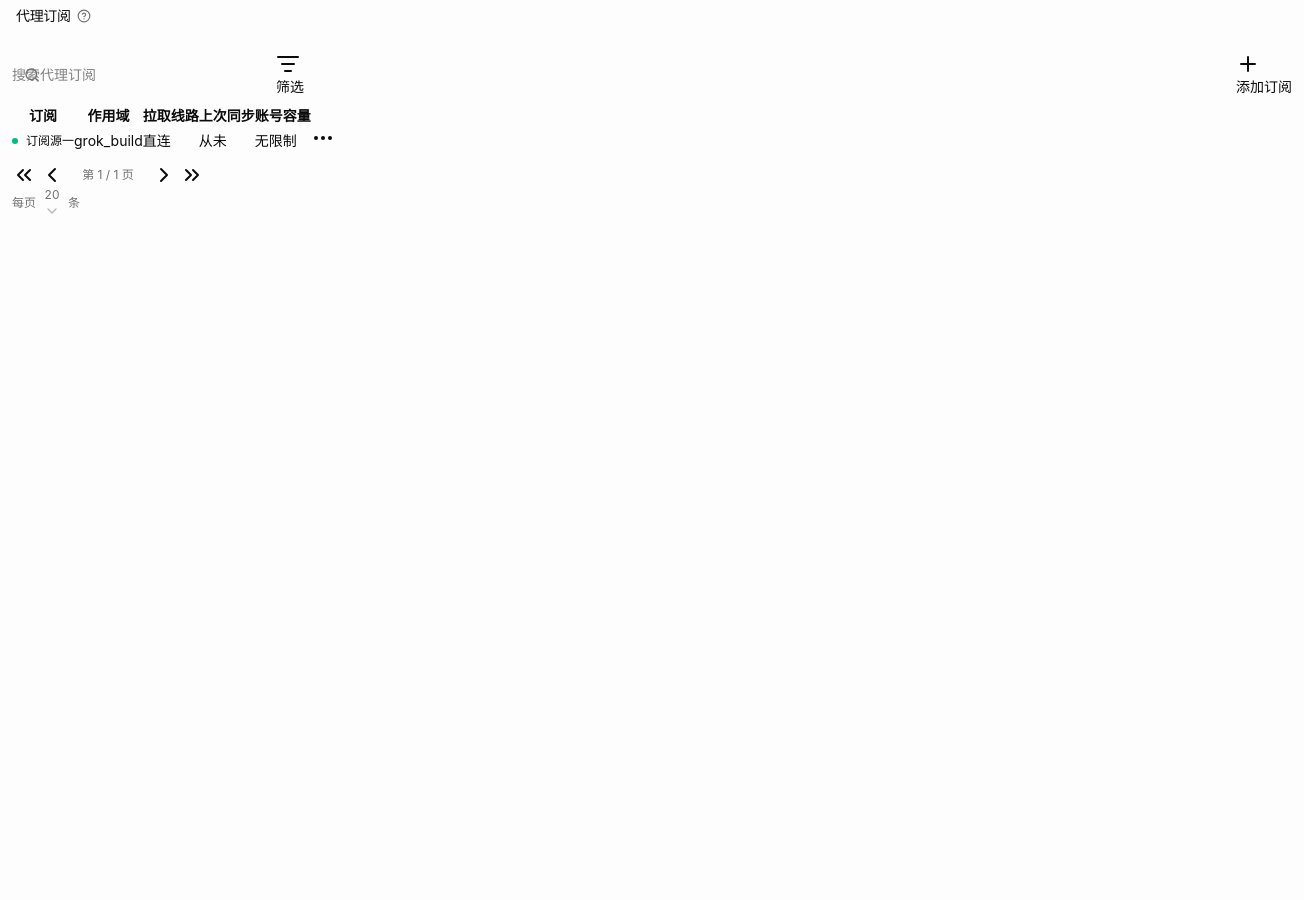
EgressSources 同步订阅源 › 同步失败时提示服务端错误
expect the row with test id "egress-source-row-src-1" is shown: met, box [12, 126, 335, 155]
Click the button with test id "egress-source-actions-src-1". click: (323, 138)
box: [311, 126, 335, 150]
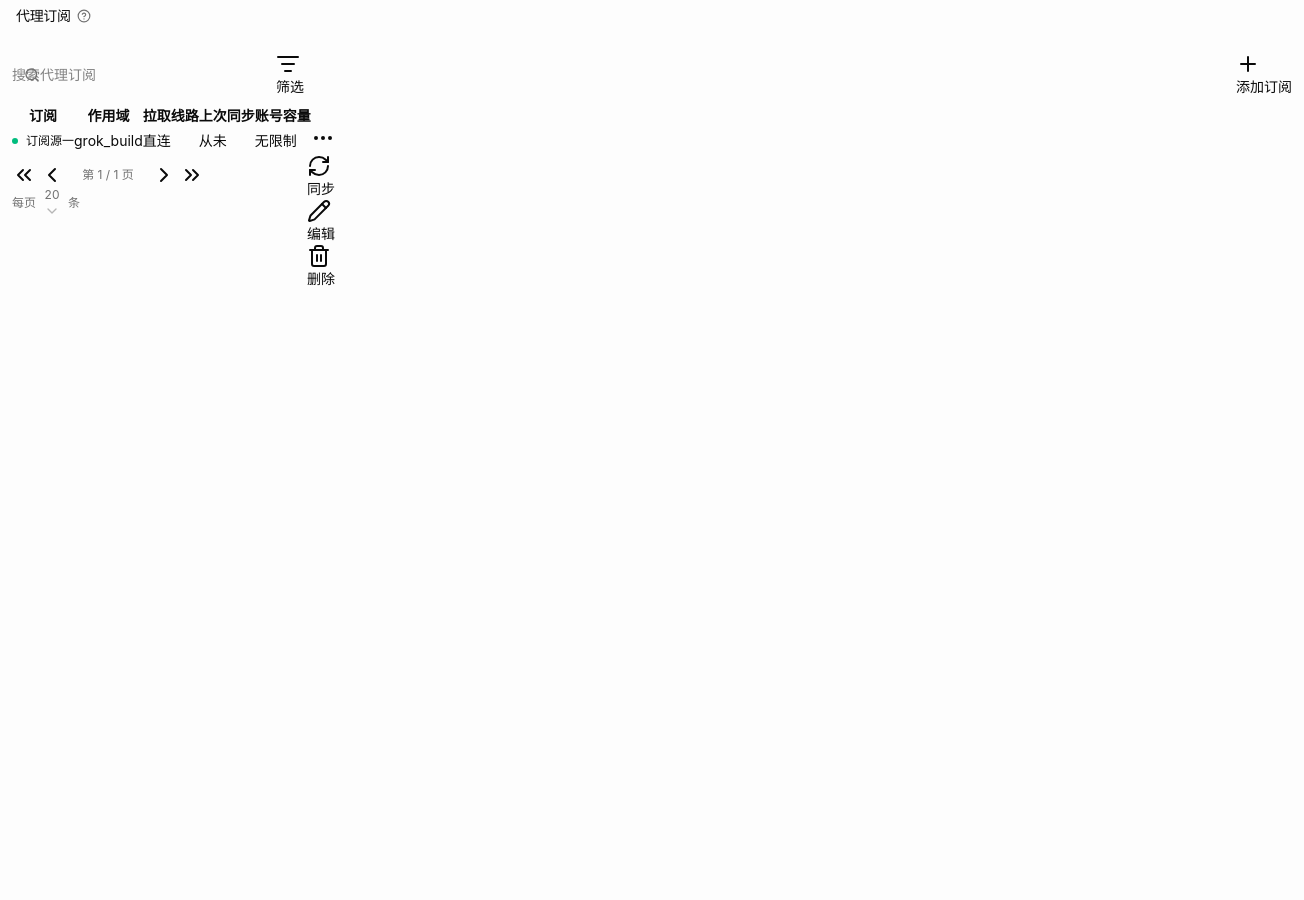
Click the menu item with test id "egress-source-sync-src-1". click: (321, 176)
box: [307, 154, 335, 199]
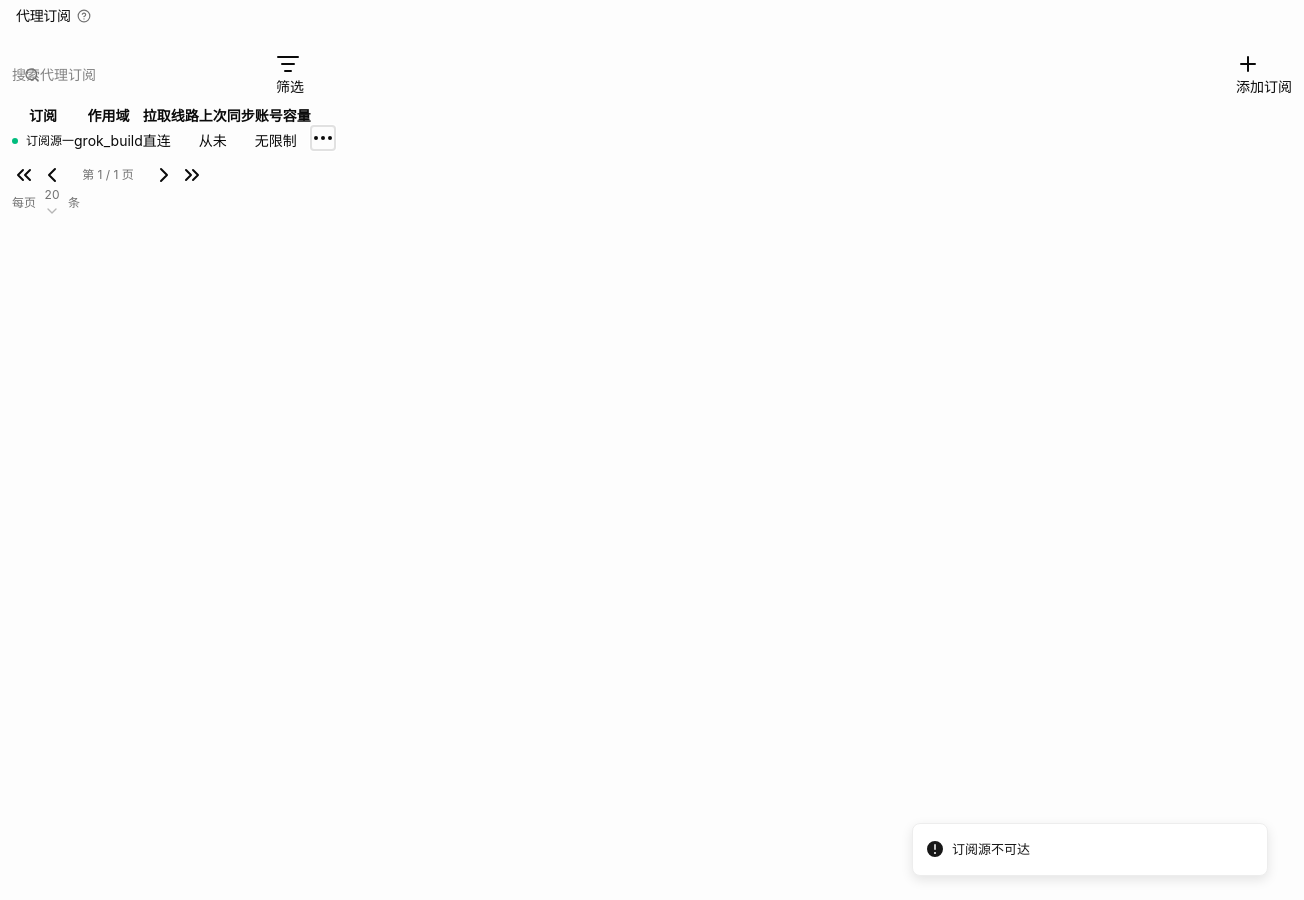
expect the text "订阅源不可达" is shown: met, box [952, 840, 1030, 859]
